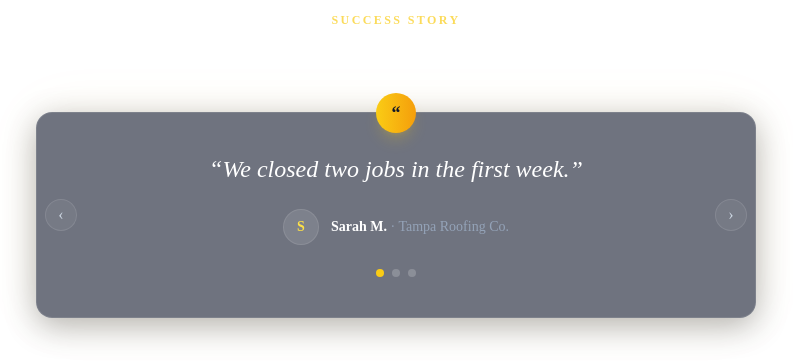
Test: FeaturedTestimonial › wraps back to the first testimonial from the last via next
The width and height of the screenshot is (793, 362).
Click the button named "next": (731, 215) [715, 199, 747, 231]
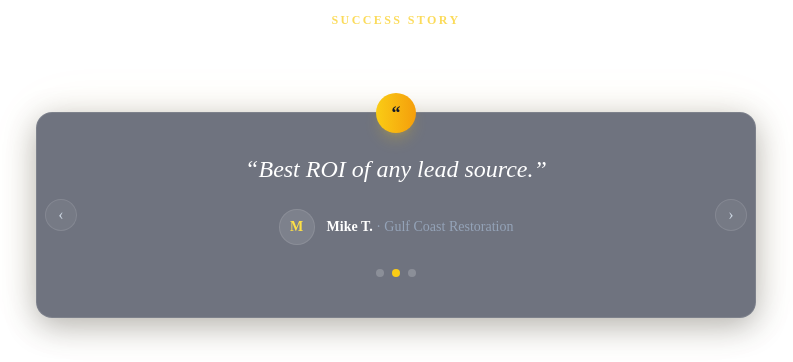
Click the button named "next": (731, 215) [715, 199, 747, 231]
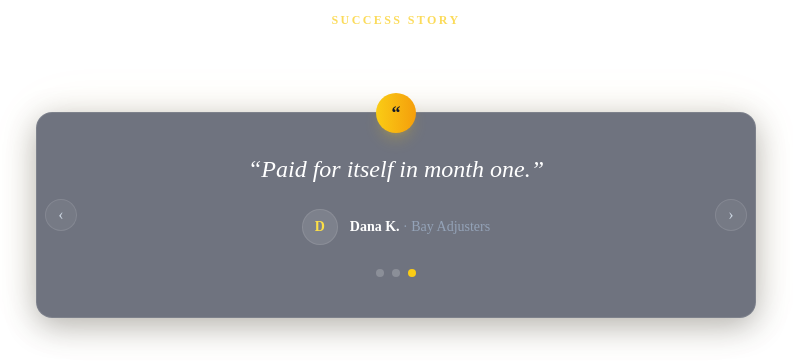
Click the button named "next": (731, 215) [715, 199, 747, 231]
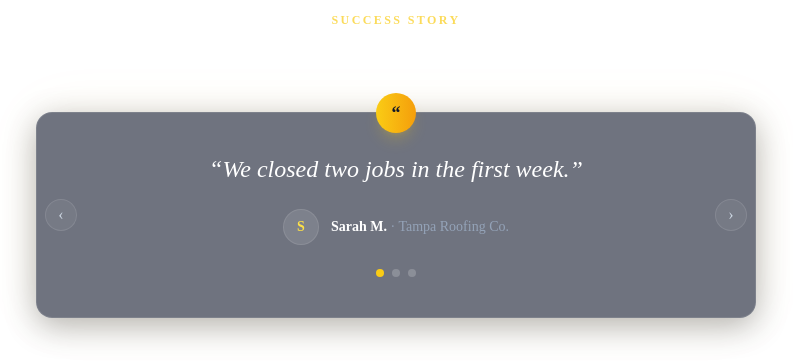
expect the text "“We closed two jobs in the first week.”" is shown: met, box [209, 156, 583, 182]
